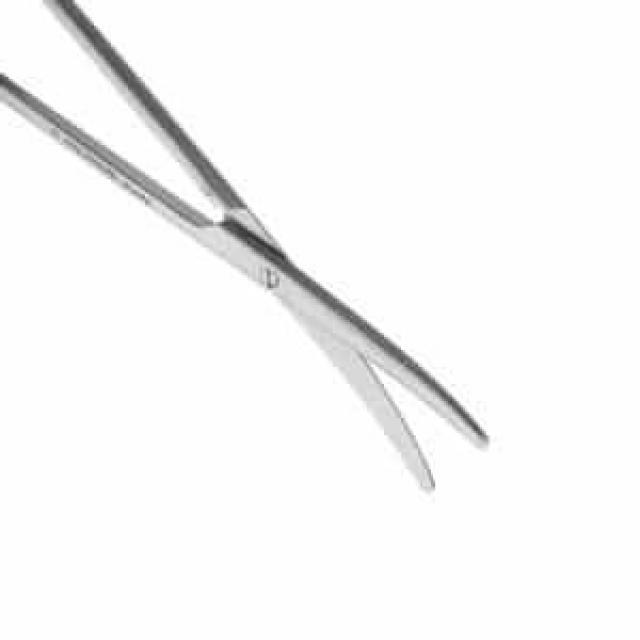Mayo_metz: (0, 0, 493, 502)
